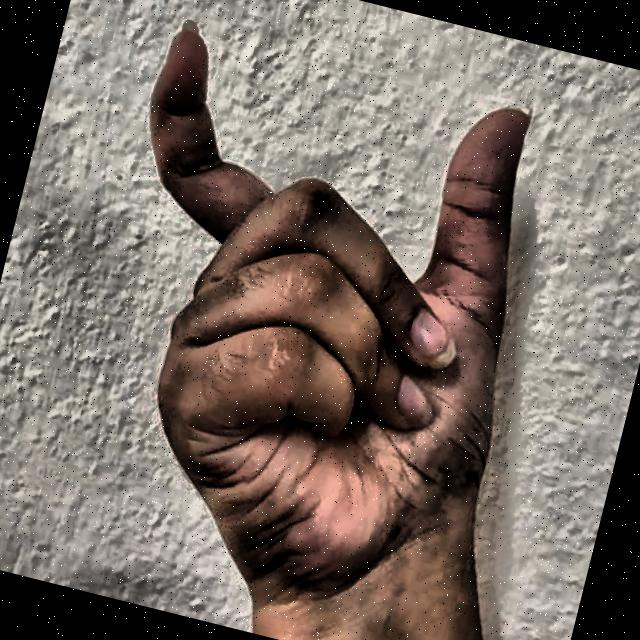ChandraBindu: (5, 0, 630, 640)
